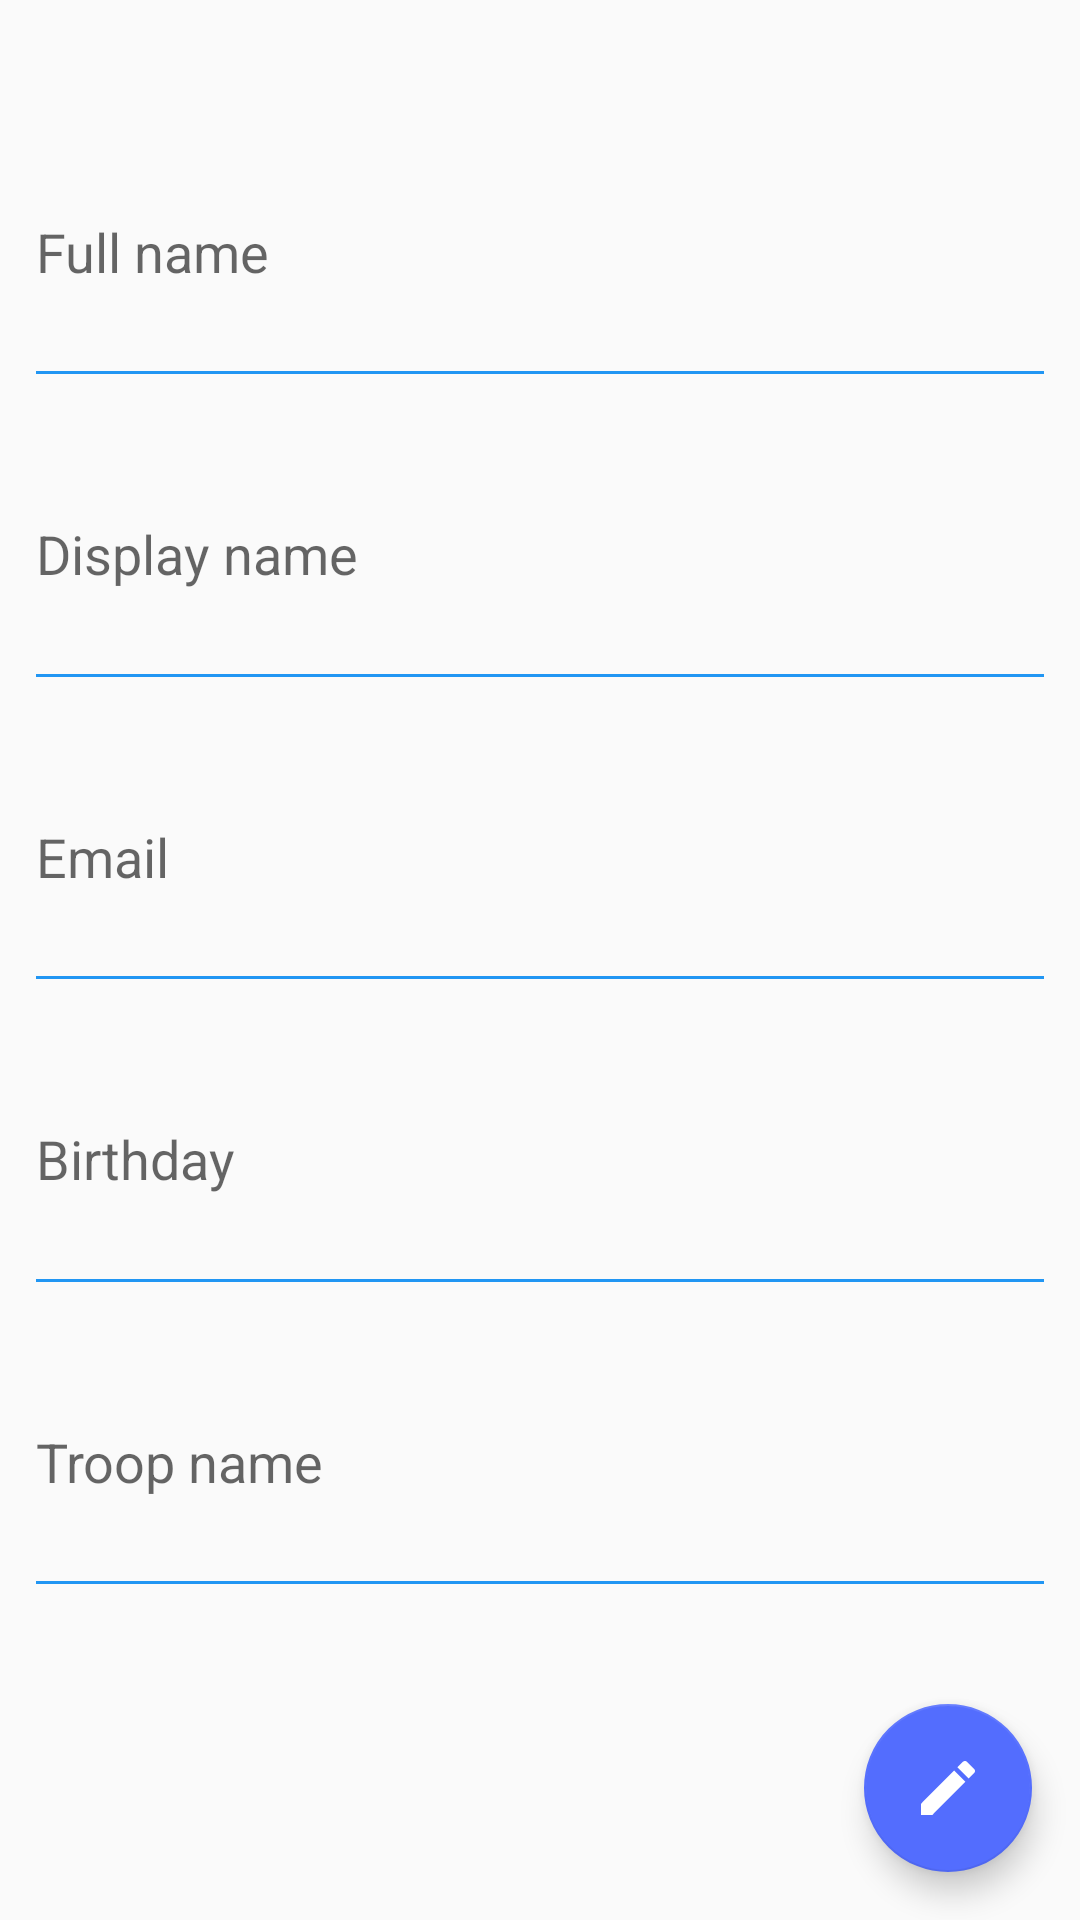

Named icons in this screenshot (1080×1920) and their bounding boxes, (x1, y1, x2, y2):
edit: (864, 1704, 1032, 1872)
